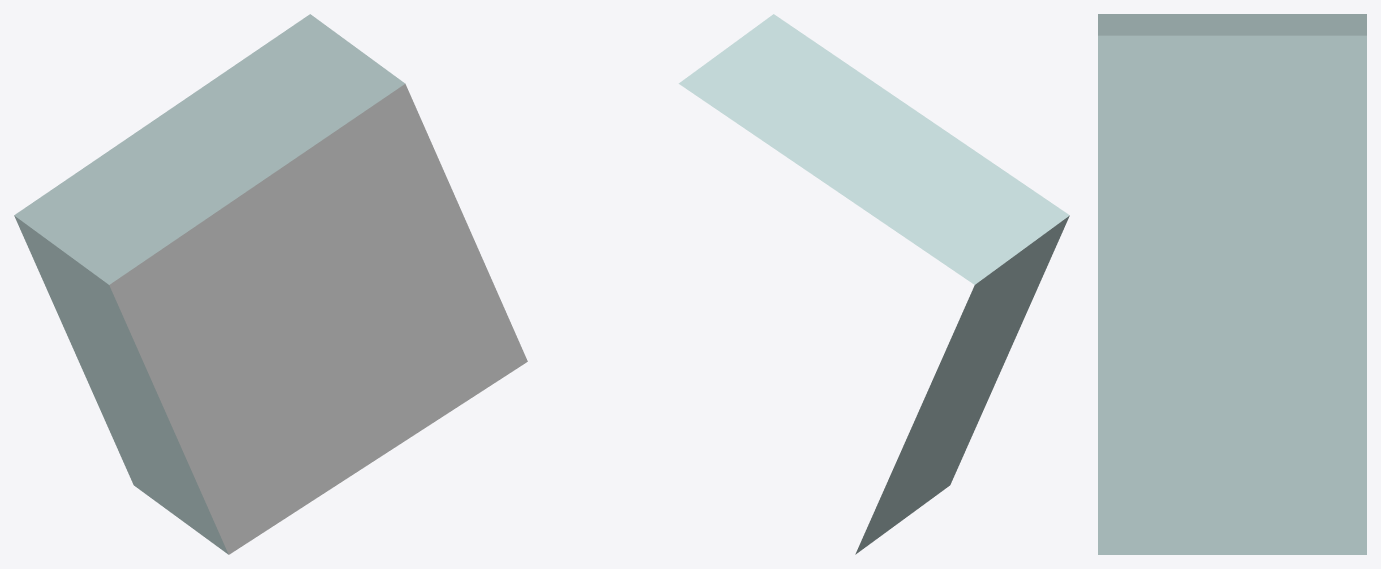
3 renders of one model, left to right at view 1: azimuth 30°, elevation 25°; view 2: azimuth 150°, elevation 25°; view 3: azimuth 270°, elevation 25°, orthographic. The views are drawn at different scales.
Parts seen in each view (by area): view 1: 0_3_1_2_3_3_1_0_1; view 2: 0_3_1_2_3_3_1_0_1; view 3: 0_3_1_2_3_3_1_0_1.
Boxes of the visible parts, <box> form: 0_3_1_2_3_3_1_0_1: <box>14,14,527,554</box>; 0_3_1_2_3_3_1_0_1: <box>678,14,1069,554</box>; 0_3_1_2_3_3_1_0_1: <box>1098,14,1366,554</box>.
Bounding box in the file's own units: 7.62 × 7.45 × 3.
